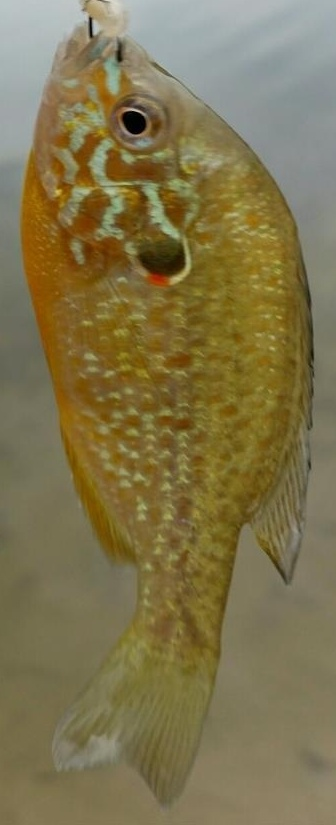Lepomis gibbosus: (20, 20, 316, 805)
